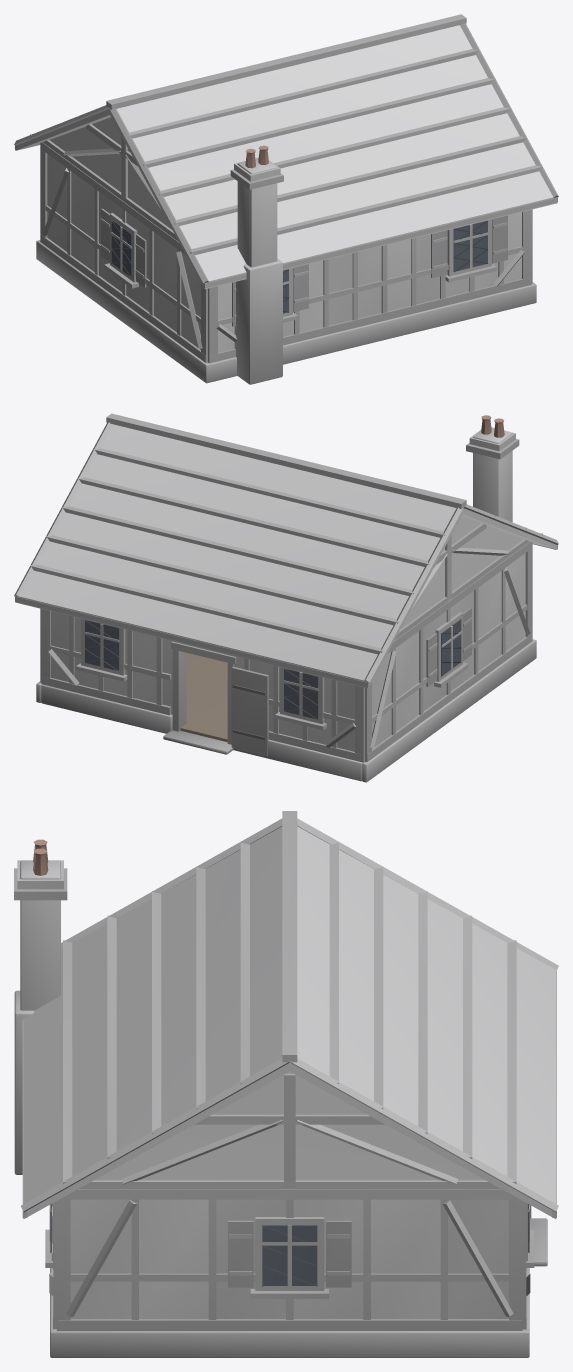
Rendered from open_house_pale.gltf.
3 views of the same model, one above another, from view 1: azimuth 30°, elevation 25°; view 2: azimuth 150°, elevation 25°; view 3: azimuth 270°, elevation 25° (orthographic). The views are drawn at different scales.
Parts seen in each view (by area): view 1: Body; view 2: Body; view 3: Body.
Part boxes in pixels (left/top/right/bottom): Body: left=14, top=14, right=558, bottom=384; Body: left=14, top=413, right=558, bottom=782; Body: left=14, top=811, right=558, bottom=1357.
Bounding box in the file's own units: 9.97 × 6.04 × 9.4.
